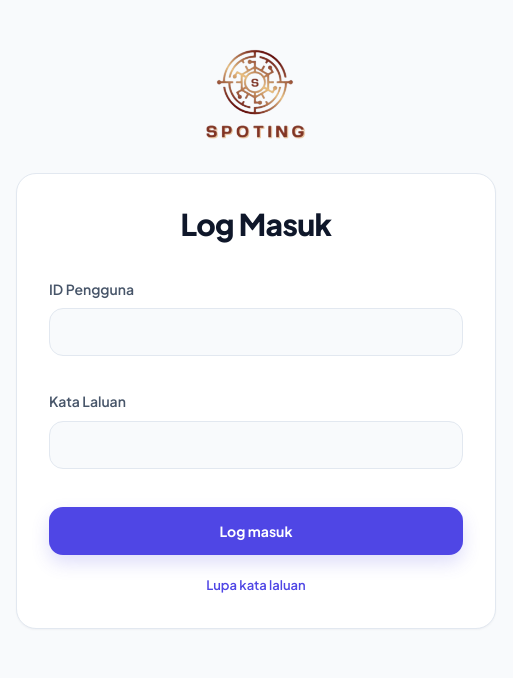
Test case: Login.vue › memaparkan ralat jika maklumat kosong
This screenshot has width=513, height=678.
Click the button "Log masuk" at (256, 531), box [49,507,463,555]
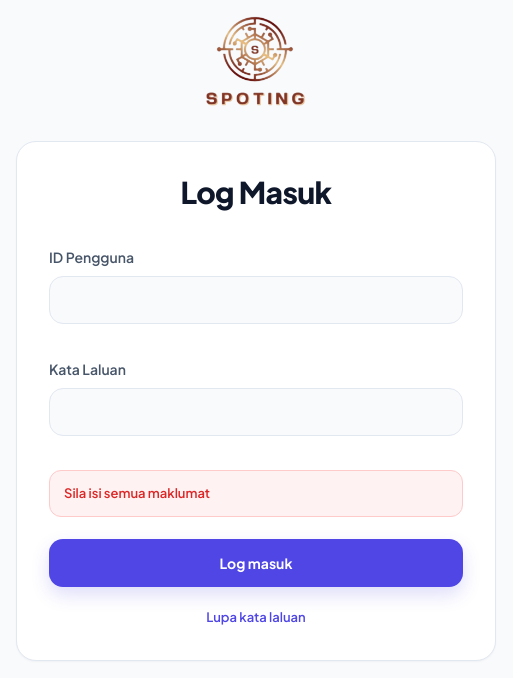
Check: the text "Sila isi semua maklumat" is shown, box [49,470,463,517]
